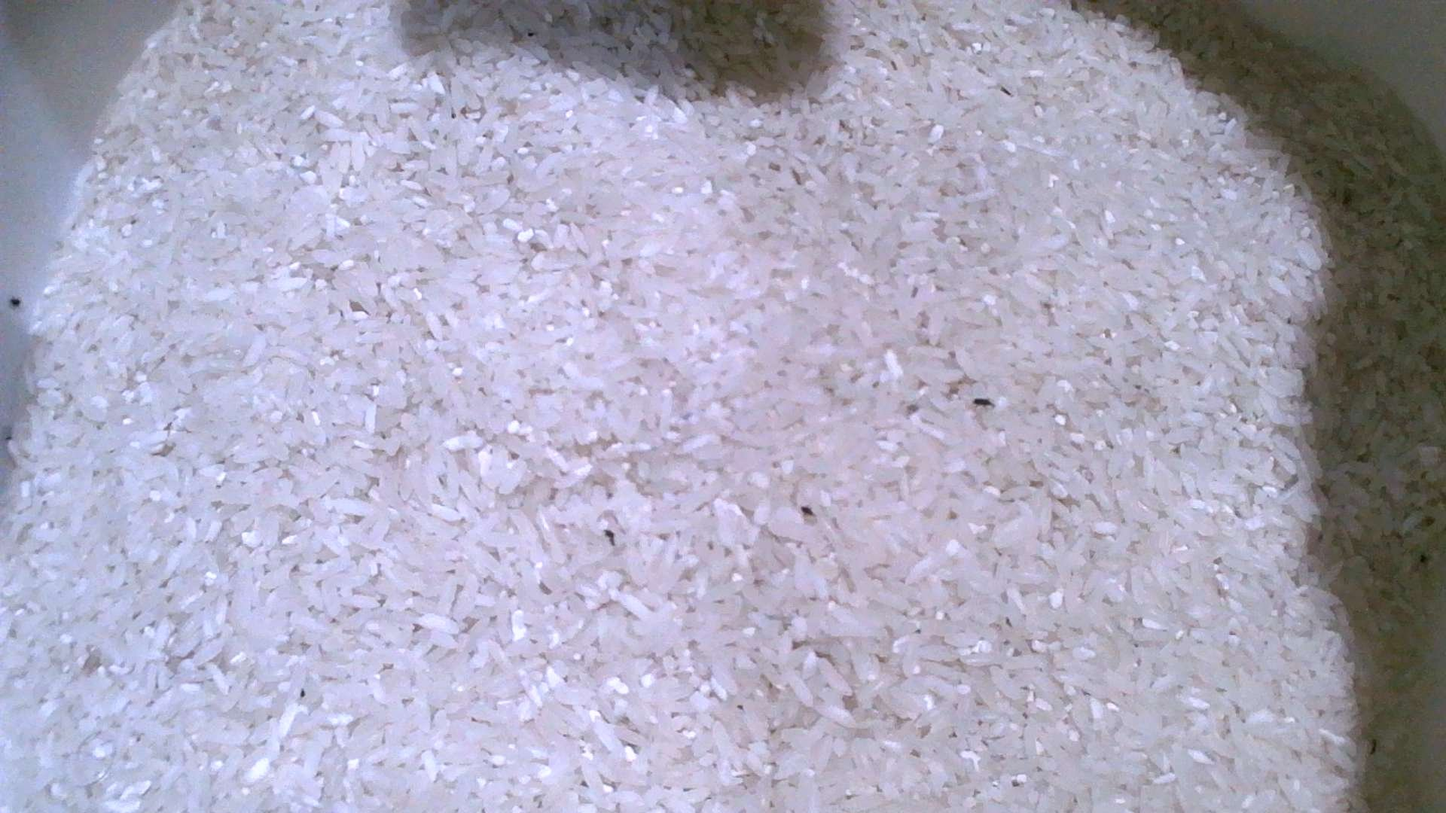Sitophilus-Oryzae: (972, 397, 992, 406), (8, 297, 21, 307)
